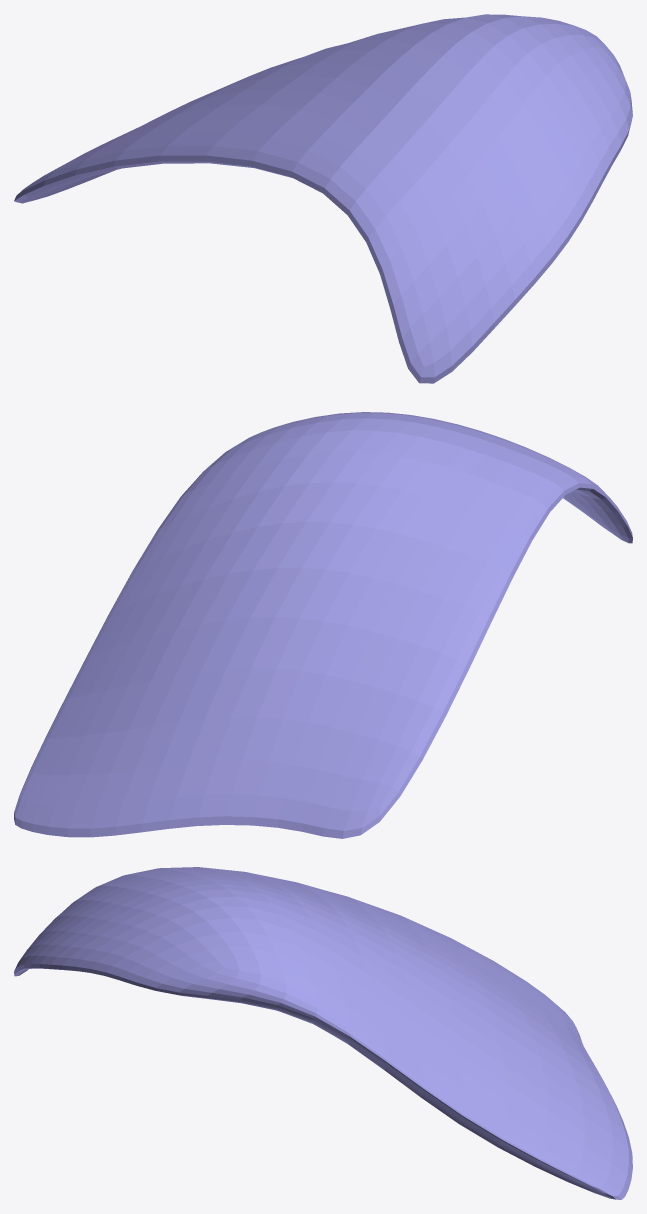
The model's file is petal_00.glb.
3 views of the same model, one above another, from view 1: azimuth 30°, elevation 25°; view 2: azimuth 150°, elevation 25°; view 3: azimuth 270°, elevation 25° (orthographic). The views are drawn at different scales.
Parts seen in each view (by area): view 1: Plane; view 2: Plane; view 3: Plane.
Part boxes in pixels (x1=…): Plane: x1=14, y1=14, x2=632, y2=383; Plane: x1=14, y1=412, x2=632, y2=838; Plane: x1=14, y1=867, x2=632, y2=1199.
Bounding box in the file's own units: 1.91 × 1.41 × 3.19.
